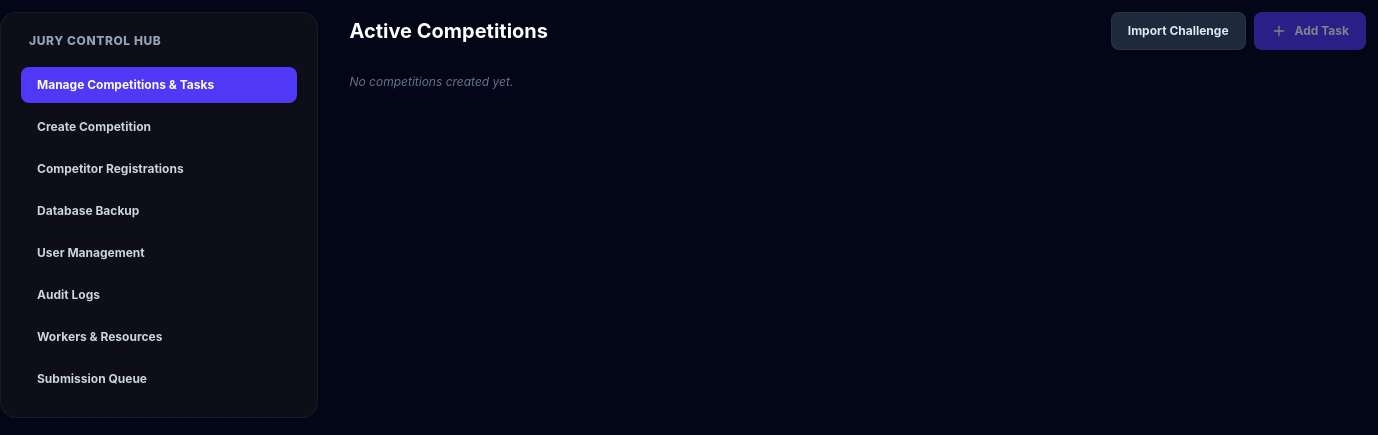
Scenario: AdminPanel Page - Workers & Resources › handles SSE errors gracefully
Click the button "Workers & Resources".
click(159, 337)  # box [21,319,296,355]
Wait 31000 ms
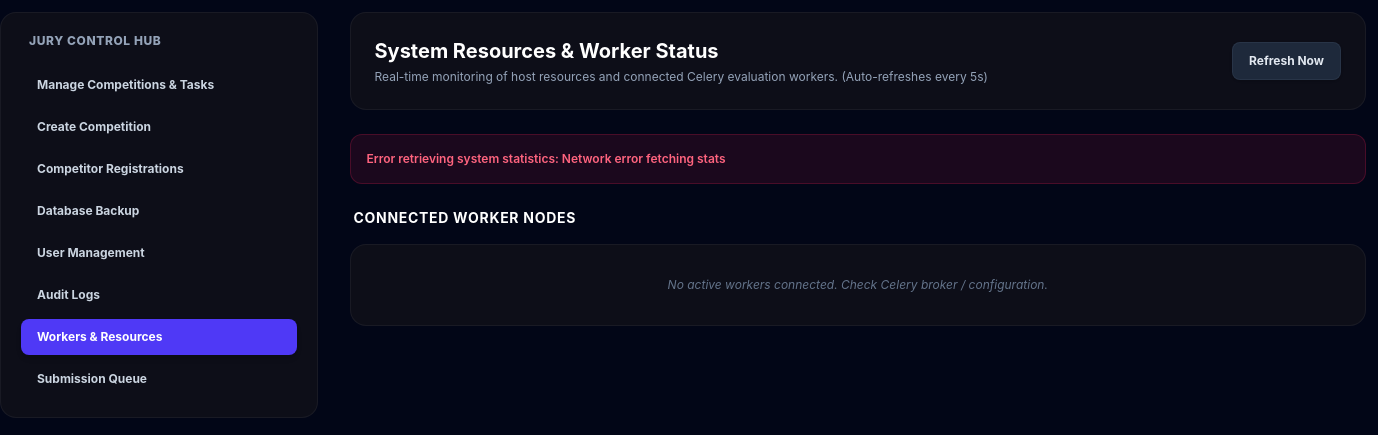
Check: the text "Network error fetching stats" is shown, box [366,151,726,166]
